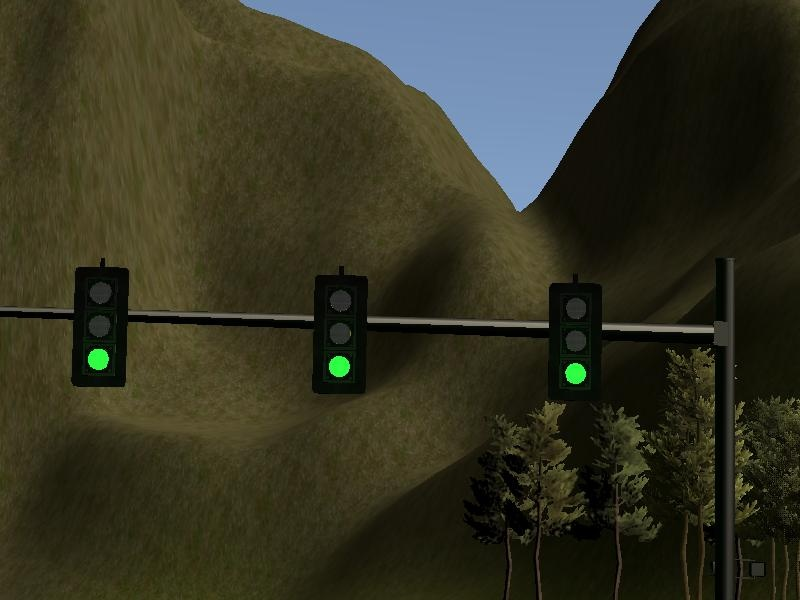green: (312, 274, 368, 395), (72, 265, 126, 388), (549, 283, 603, 401)
